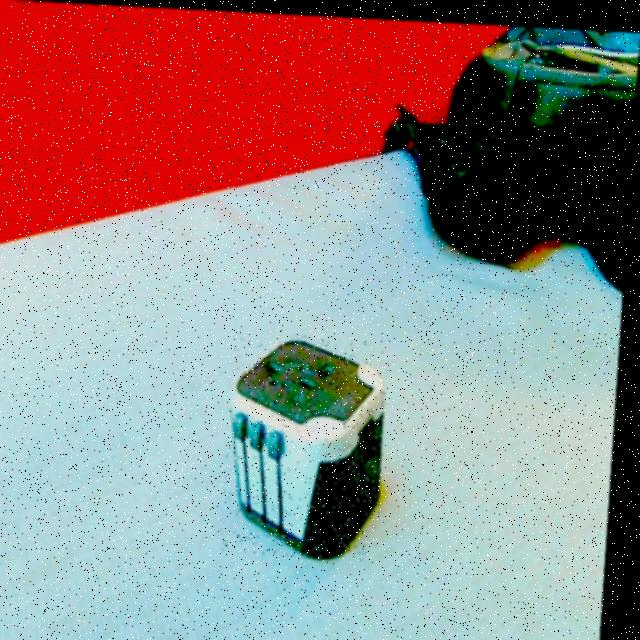adapter: (227, 329, 395, 557)
